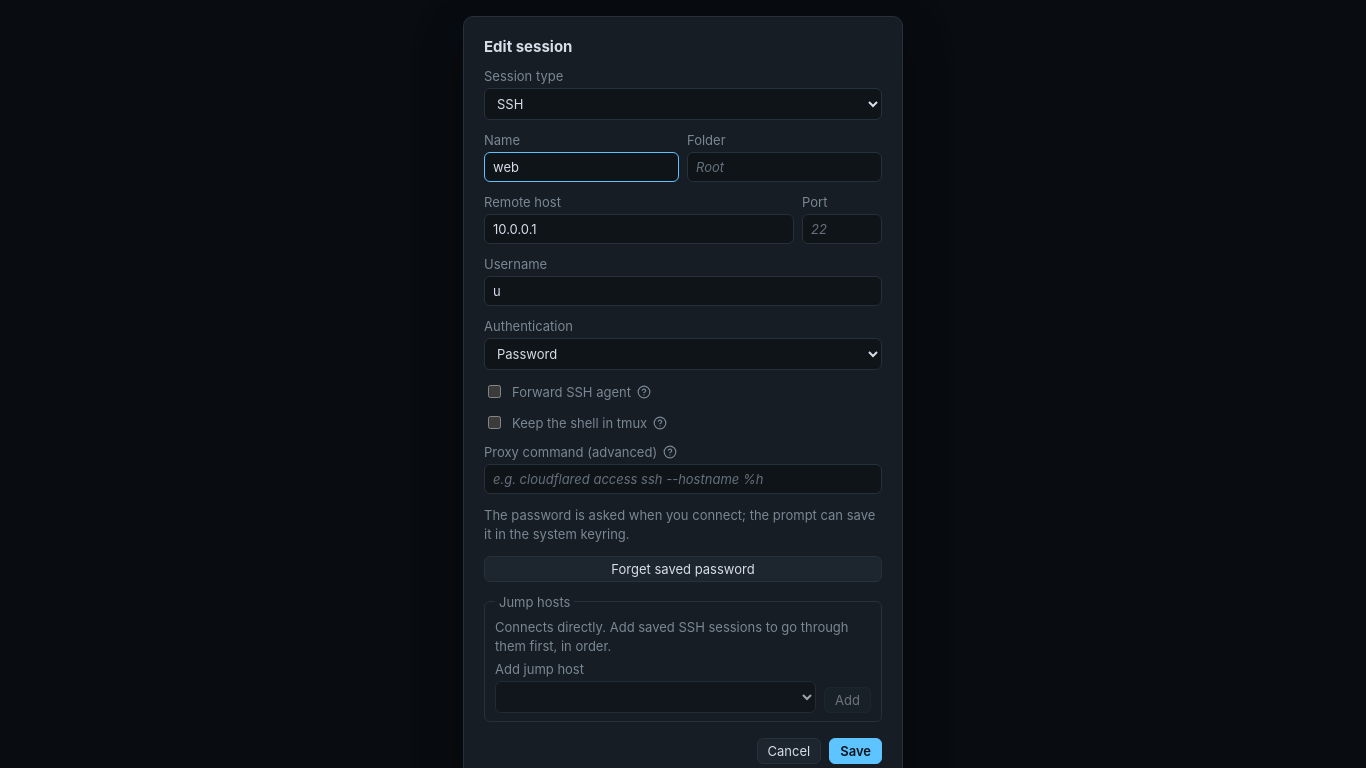
Test: SessionEditDialog saved password › shows why forgetting failed
This screenshot has width=1366, height=768.
Click the button "Forget saved password" at (683, 569), box [484, 556, 882, 582]
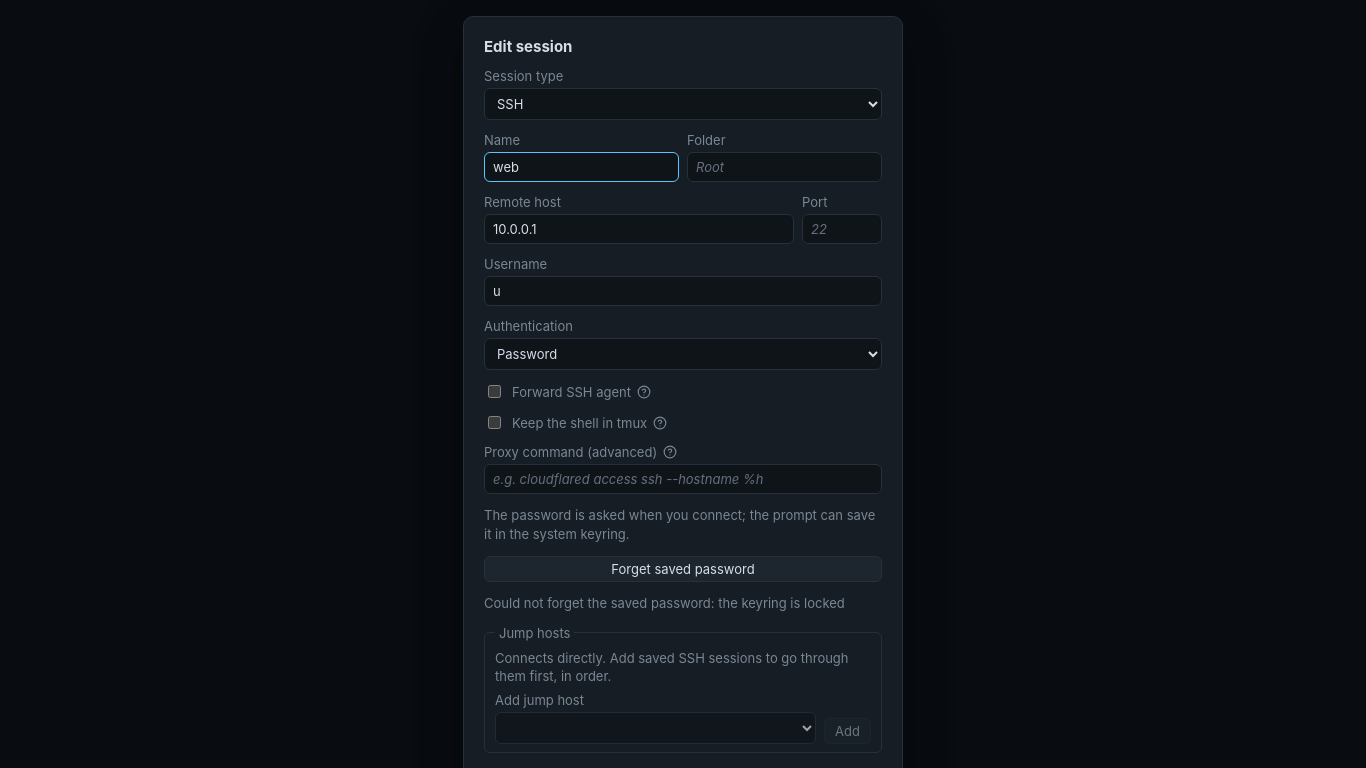
Result: the text "Could not forget the saved password: the keyring is locked" is shown at [484, 594, 882, 612]
